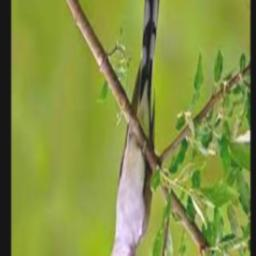Cuckoo: (99, 0, 161, 256)
